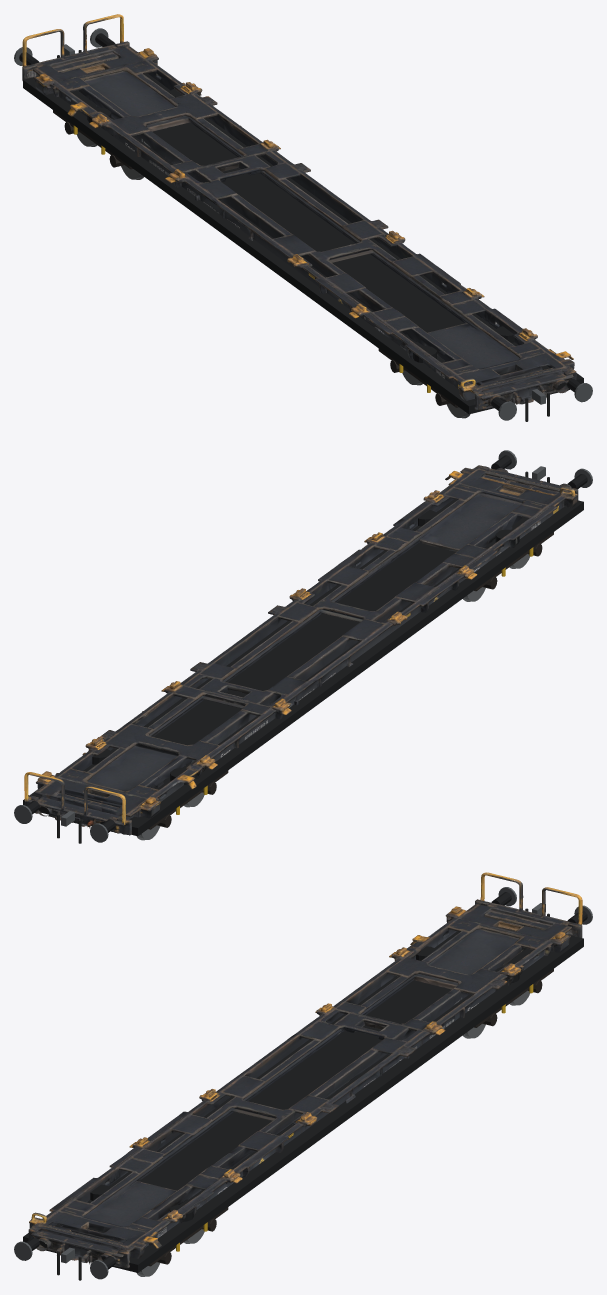
Rendered from sgns.glb.
The picture shows the model from 3 angles, top to bottom: view 1: azimuth 30°, elevation 25°; view 2: azimuth 150°, elevation 25°; view 3: azimuth 330°, elevation 25°; orthographic projection.
Parts seen in each view (by area): view 1: sgns_kori, sgns_frame; view 2: sgns_kori, sgns_frame; view 3: sgns_kori, sgns_frame.
Boxes of the visible parts, left/top/right/bottom form: sgns_kori: left=22, top=14, right=576, bottom=410; sgns_frame: left=23, top=59, right=583, bottom=414; sgns_kori: left=24, top=465, right=578, bottom=835; sgns_frame: left=23, top=485, right=583, bottom=836; sgns_kori: left=28, top=872, right=582, bottom=1268; sgns_frame: left=23, top=927, right=583, bottom=1272.
Bounding box in the file's own units: 2.9 × 1.78 × 19.39.
7 materials, 1 textured.
